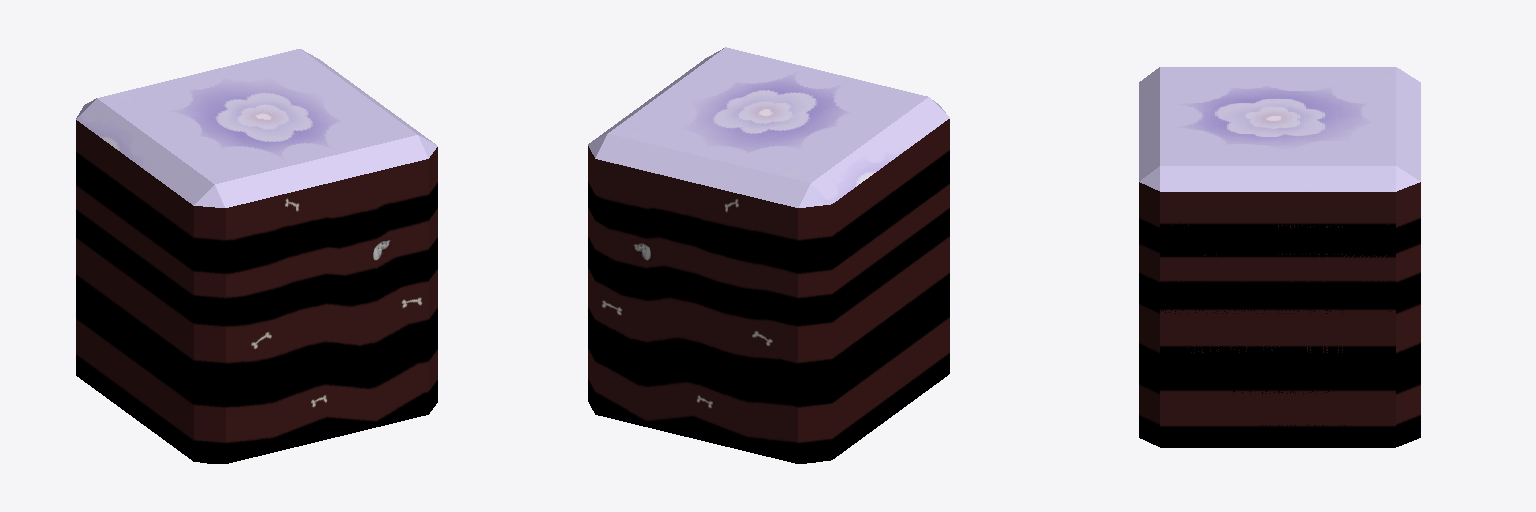
The picture shows the model from 3 angles: view 1: azimuth 30°, elevation 25°; view 2: azimuth 150°, elevation 25°; view 3: azimuth 270°, elevation 25°; orthographic projection.
Visible parts, largest first — view 1: polySurface13; view 2: polySurface13; view 3: polySurface13.
Boxes of the visible parts, box(x1,y1,x2,y2) form: polySurface13: box(76, 49, 437, 463); polySurface13: box(588, 47, 949, 463); polySurface13: box(1139, 67, 1420, 447).
Size of the model in its own units: 100 by 109 by 100.
Materials: 2 (2 with a texture image).